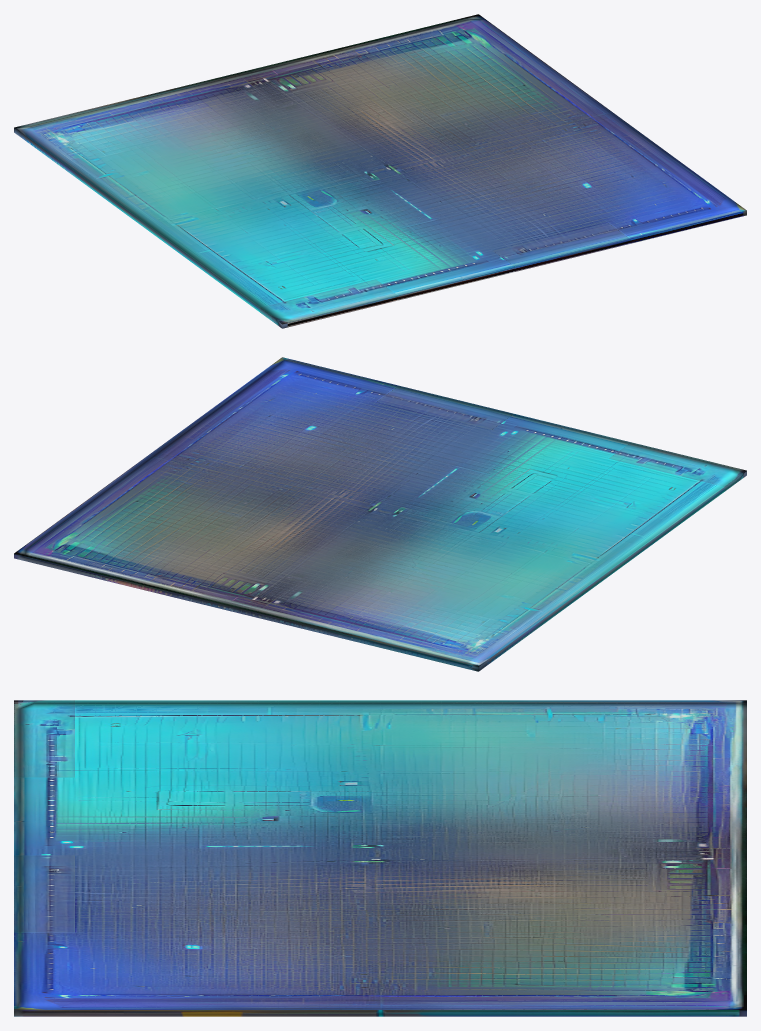
The model's file is roadBasic.glb.
3 views of the same model, one above another, from view 1: azimuth 30°, elevation 25°; view 2: azimuth 150°, elevation 25°; view 3: azimuth 270°, elevation 25° (orthographic). The views are drawn at different scales.
Parts seen in each view (by area): view 1: Mesh_0.003; view 2: Mesh_0.003; view 3: Mesh_0.003.
Part boxes in pixels (left/top/right/bottom): Mesh_0.003: left=14, top=14, right=746, bottom=328; Mesh_0.003: left=14, top=357, right=746, bottom=671; Mesh_0.003: left=14, top=700, right=746, bottom=1016.
Bounding box in the file's own units: 1 × 0.01 × 1.
2 materials, 2 textured.
